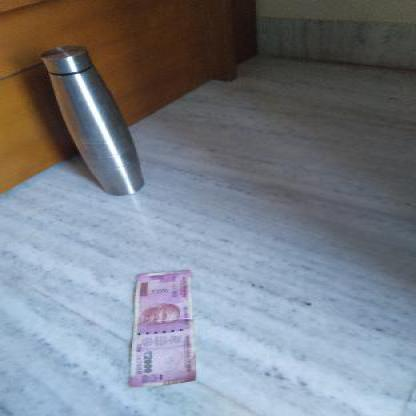New2000Front: (134, 273, 190, 386)
